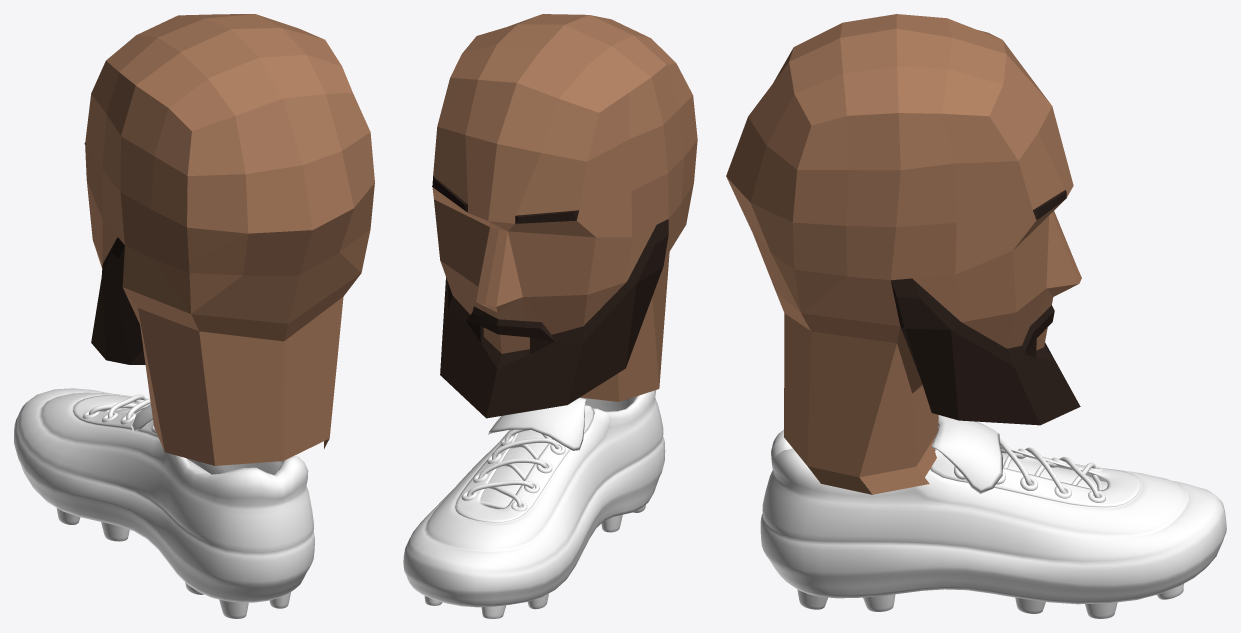
The model's file is jogador2.fbx.
The picture shows the model from 3 angles, left to right: view 1: azimuth 30°, elevation 25°; view 2: azimuth 150°, elevation 25°; view 3: azimuth 270°, elevation 25°; orthographic projection. The views are drawn at different scales.
Visible parts, largest first — view 1: Object_3, Object_3.001; view 2: Object_3, Object_3.001; view 3: Object_3, Object_3.001.
Part boxes in pixels (x1,y1,x2,y2): Object_3: [84, 14, 374, 465]; Object_3.001: [14, 388, 314, 618]; Object_3: [432, 14, 697, 418]; Object_3.001: [403, 390, 665, 618]; Object_3: [726, 14, 1081, 494]; Object_3.001: [760, 415, 1226, 618].
Bounding box in the file's own units: 76.93 × 181 × 143.
